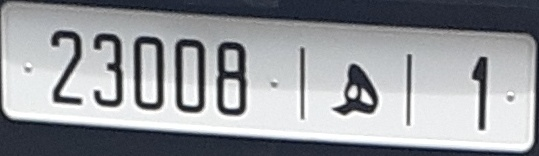0: (131, 33, 167, 114), (174, 38, 208, 115)
1: (468, 52, 491, 133)
2: (47, 28, 86, 105)
3: (91, 32, 125, 109)
8: (214, 38, 251, 119)
h: (331, 55, 384, 120)
